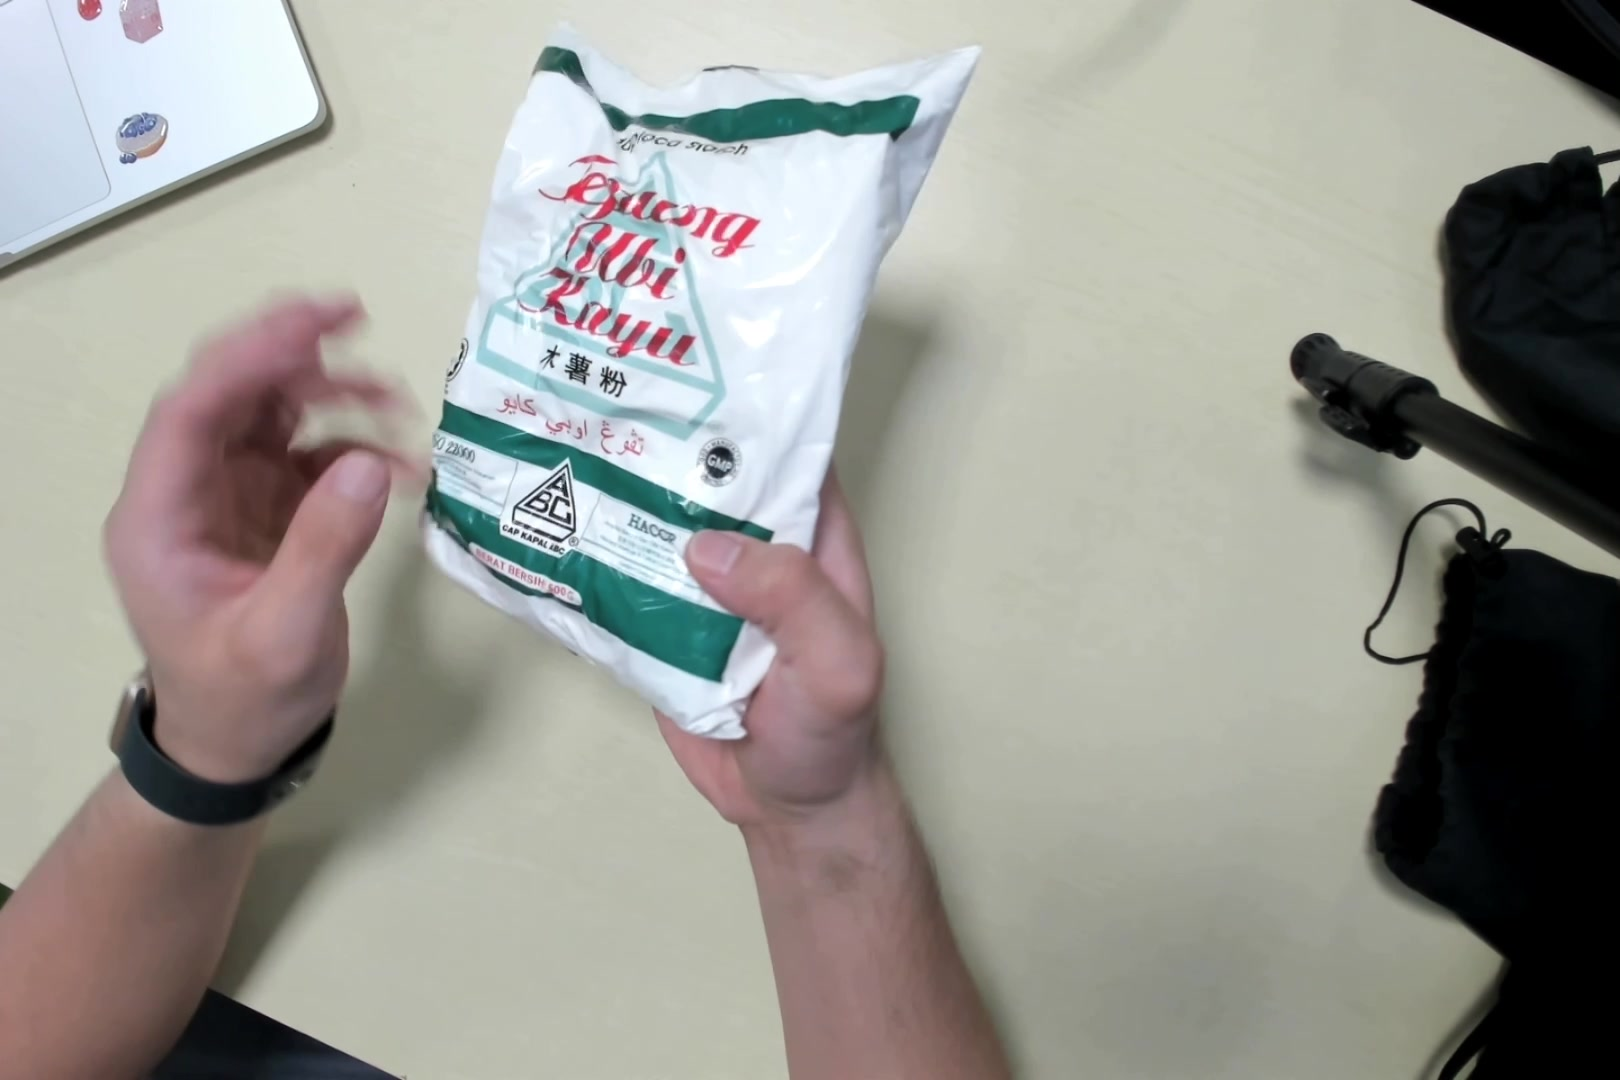Flour_500-599g_Halal_NonHealthy: (425, 60, 932, 726)
